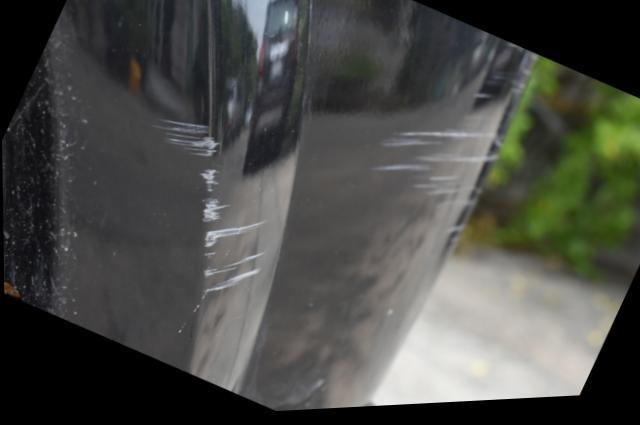scratch: (377, 47, 540, 253), (149, 114, 270, 298)
